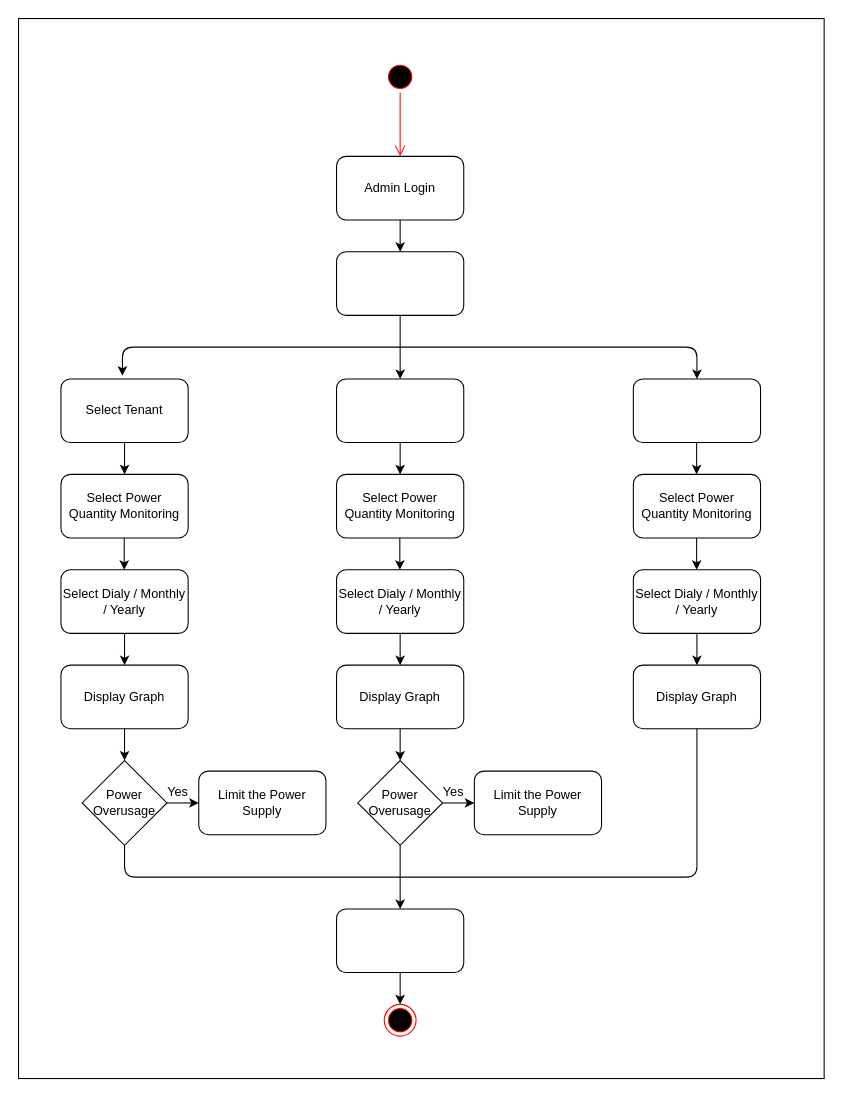
Some shapes in this 843 by 1097 pixel diagram are drawn without their labels. Each missing label, with the box of its shape:
Admin Dashboard: (335, 251, 464, 315)
Logout: (335, 908, 464, 973)
Overall View: (632, 378, 761, 443)
Select User: (335, 378, 464, 443)
